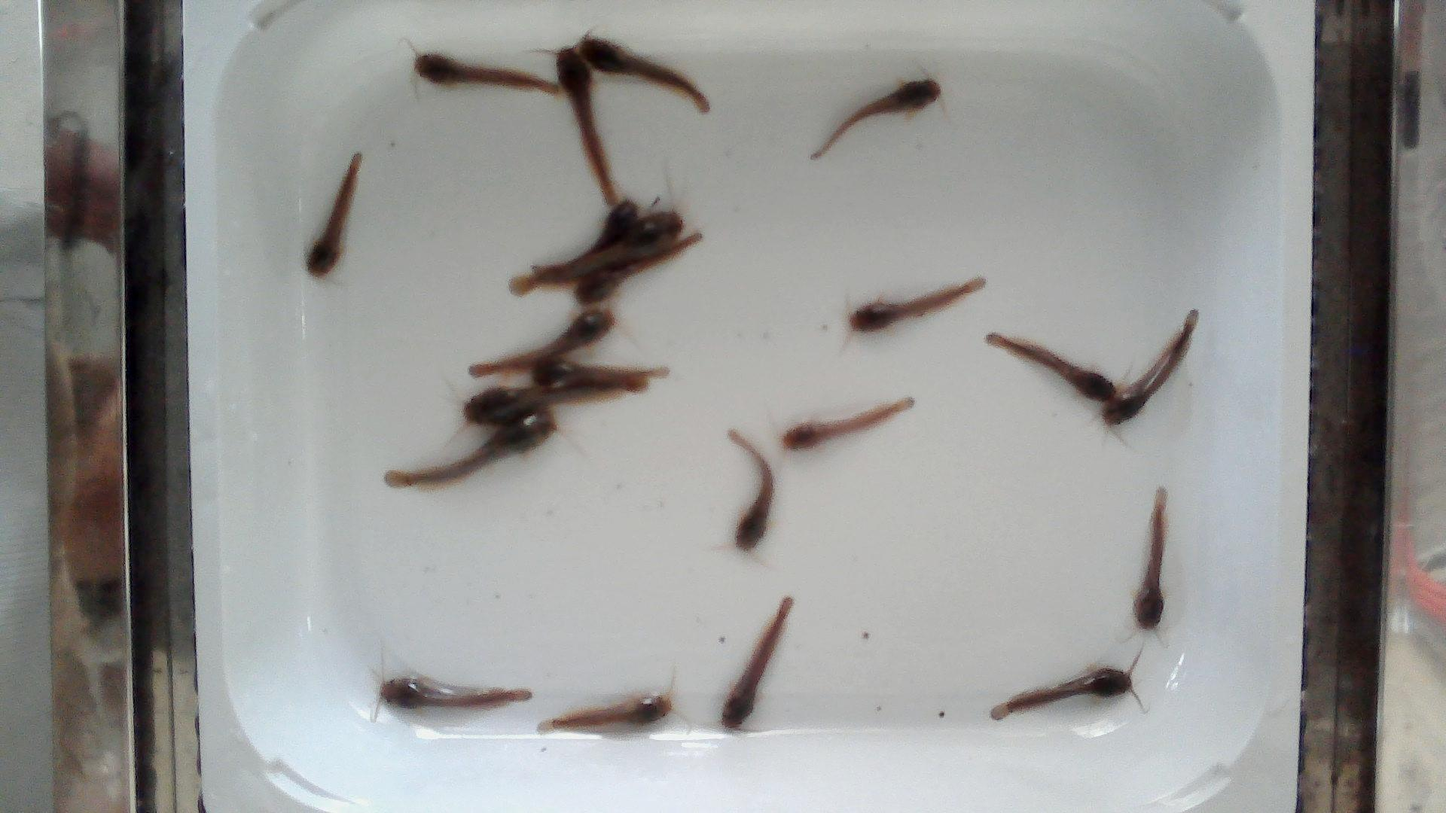lele: (507, 212, 682, 296), (381, 412, 556, 492), (1098, 310, 1199, 427), (810, 76, 940, 159), (575, 36, 709, 112), (468, 311, 618, 377), (558, 49, 621, 203), (721, 596, 793, 729), (457, 381, 650, 429), (984, 334, 1116, 402), (576, 235, 703, 304), (991, 667, 1132, 719), (850, 277, 985, 331), (781, 397, 913, 450), (306, 154, 362, 277), (414, 53, 563, 96), (539, 690, 672, 730), (730, 430, 773, 551), (529, 356, 671, 391), (381, 676, 532, 708), (1133, 487, 1167, 629), (586, 200, 638, 253)
